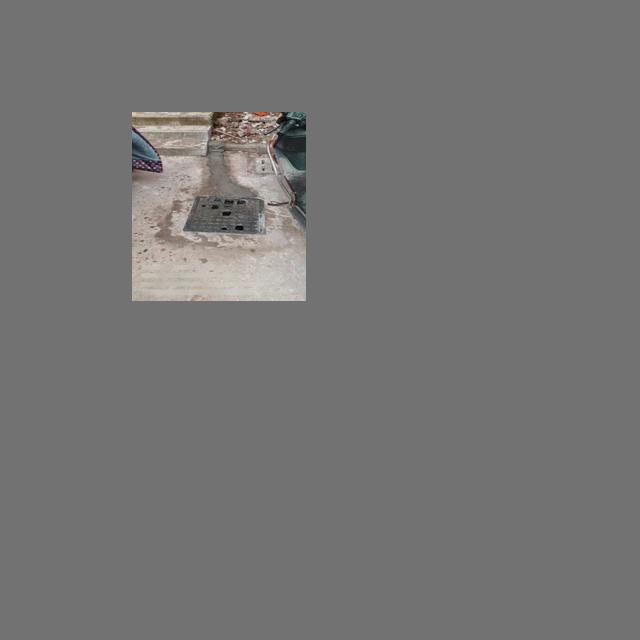broke: (182, 195, 267, 236)
